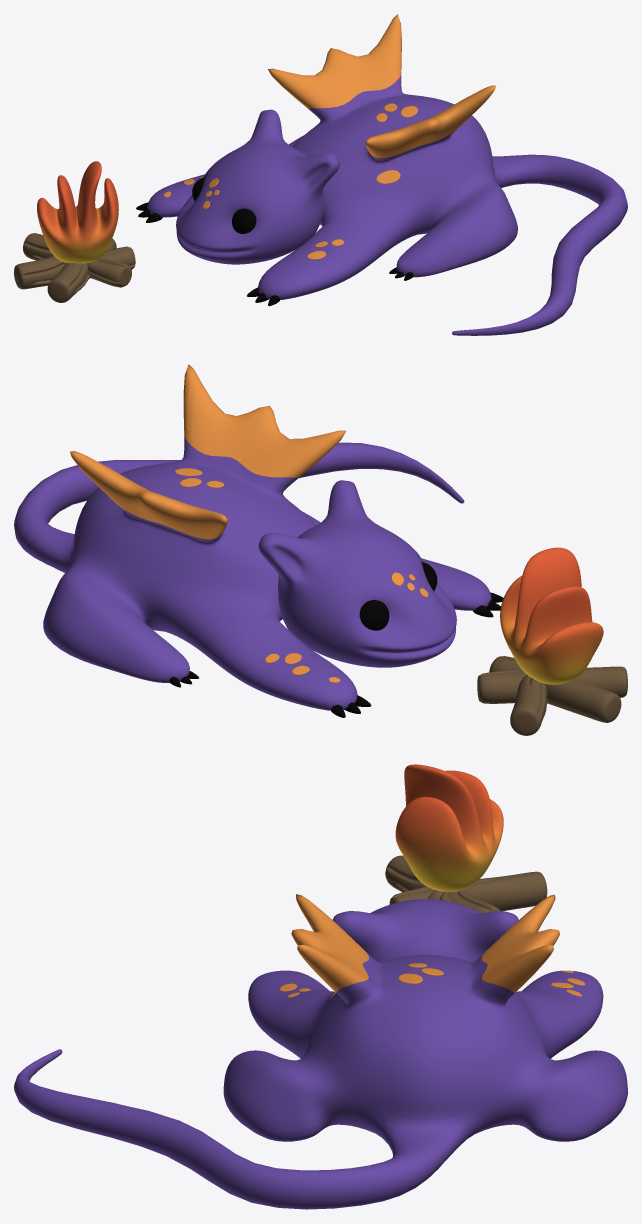
The model's file is dragon - sketchfab.fbx.
3 views of the same model, one above another, from view 1: azimuth 30°, elevation 25°; view 2: azimuth 150°, elevation 25°; view 3: azimuth 270°, elevation 25° (orthographic). The views are drawn at different scales.
Visible parts, largest first — view 1: Cube.026, Cube.025, Cube.029, Circle.001, Circle.006, Circle.004, Circle.003, Sphere.002, Cube.027; view 2: Cube.026, Cube.025, Cube.029, Circle.001, Circle.004, Circle.006, Circle.003, Sphere.002, Cube.027; view 3: Cube.026, Cube.029, Cube.025, Circle.006, Circle.004, Circle.003.
Boxes of the visible parts, x1,y1,x2,y2 form: Cube.026: (147, 14, 627, 335); Cube.025: (176, 109, 339, 264); Cube.029: (37, 161, 118, 263); Circle.001: (14, 246, 135, 289); Circle.006: (23, 233, 131, 287); Circle.004: (47, 238, 116, 302); Circle.003: (164, 103, 417, 259); Sphere.002: (192, 177, 256, 233); Cube.027: (136, 202, 279, 306); Cube.026: (14, 364, 491, 710); Cube.025: (258, 480, 456, 667); Cube.029: (500, 547, 603, 684); Circle.001: (489, 656, 621, 722); Circle.004: (477, 666, 627, 703); Circle.006: (510, 675, 547, 735); Circle.003: (174, 468, 428, 682); Sphere.002: (359, 562, 437, 630); Cube.027: (331, 592, 503, 717); Cube.026: (14, 894, 627, 1209); Cube.029: (395, 764, 503, 891); Cube.025: (332, 899, 518, 961); Circle.006: (389, 871, 547, 910); Circle.004: (385, 855, 500, 912); Circle.003: (279, 963, 585, 998).
Size of the model in its own units: 141 by 39 by 107.
Materials: 6 (1 with a texture image).
